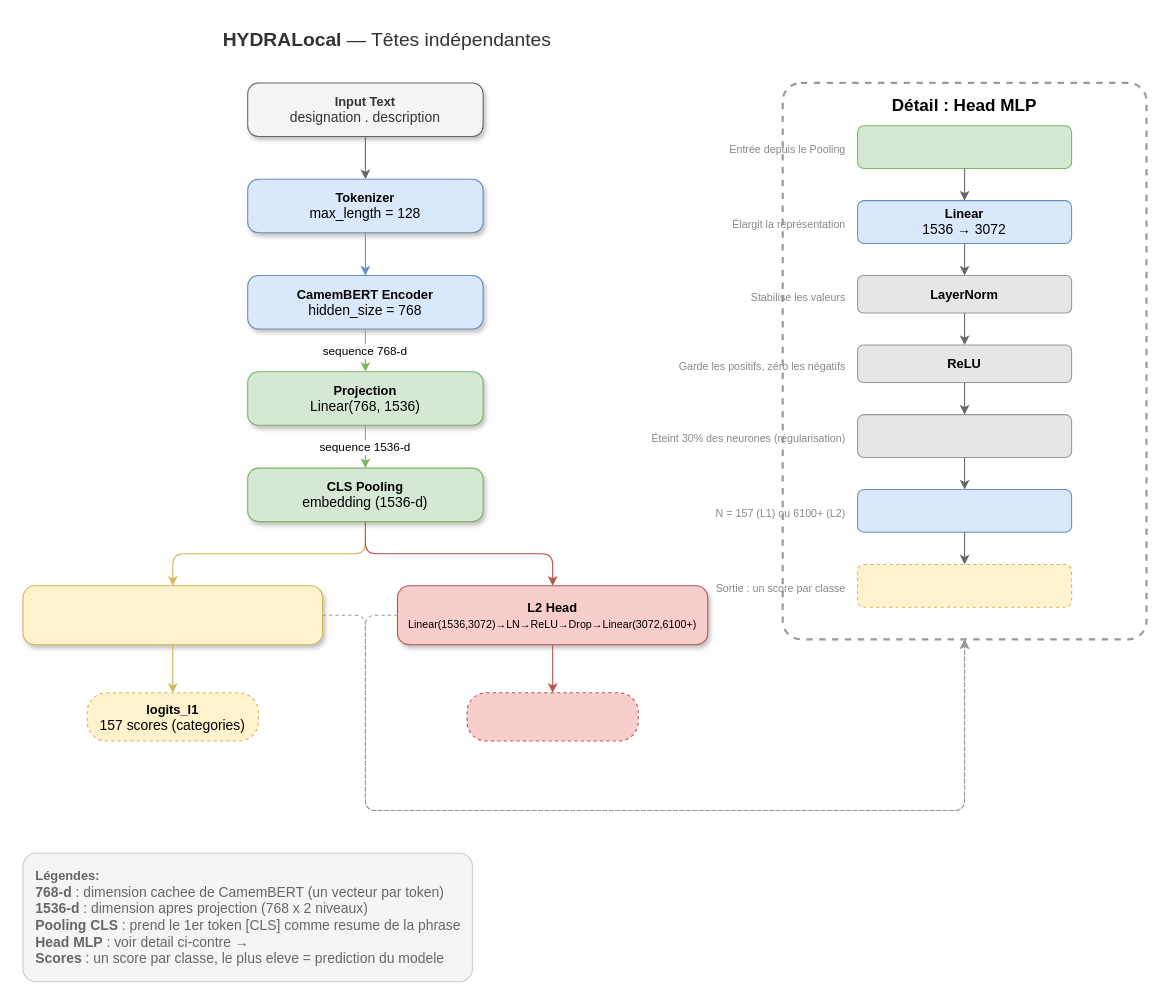
Image size: 1166x1000. Some labels were removed from this diagram. Here are the shapes that lost their labels. From the top down, the centre of each, then its label:
At point (964, 147): "Embedding 1536 valeurs".
At point (964, 435): "Dropout 30%".
At point (964, 510): "Linear 3072 → N".
At point (964, 585): "N scores le plus eleve = prediction".
At point (173, 616): "L1 Head Linear(1536,3072)→LN→ReLU→Drop→Linear(3072,157)".
At point (552, 716): "logits_l2 6100+ scores (sous-categories)".
